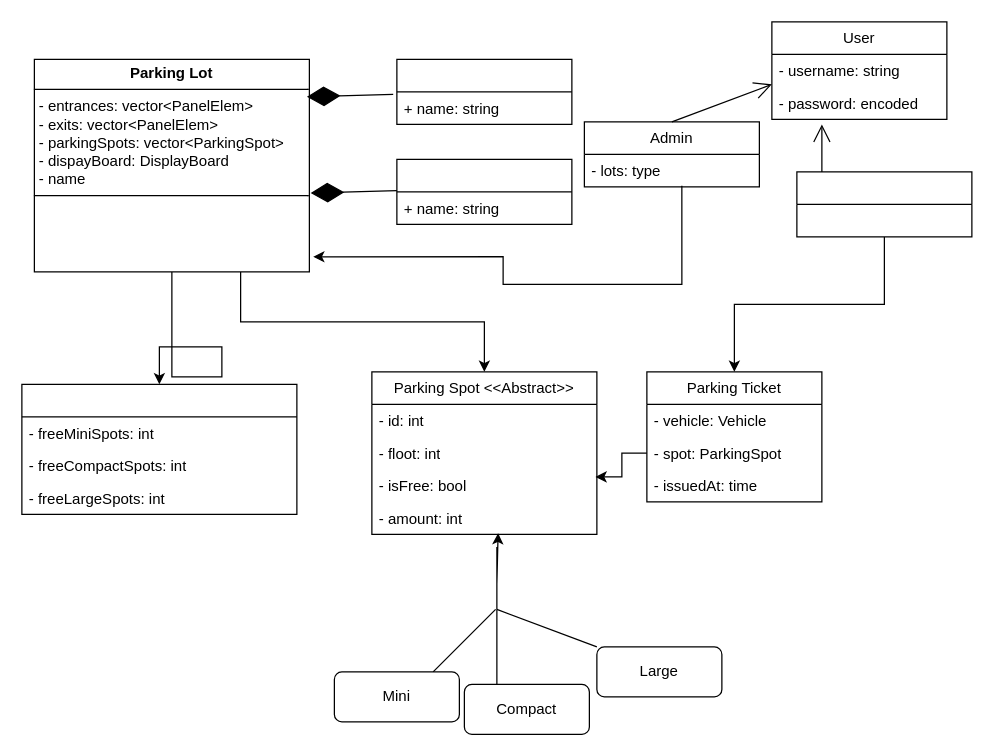
Image size: 994x756. Some labels were removed from this diagram. The box of each missing label's shape, as (x1, y1, x2, y2) in pixels:
Entrance Panel: (396, 58, 572, 124)
Exit Panel: (396, 158, 572, 224)
GlobalDisplay Board: (21, 383, 297, 514)
Parking Attendant: (796, 171, 972, 237)
